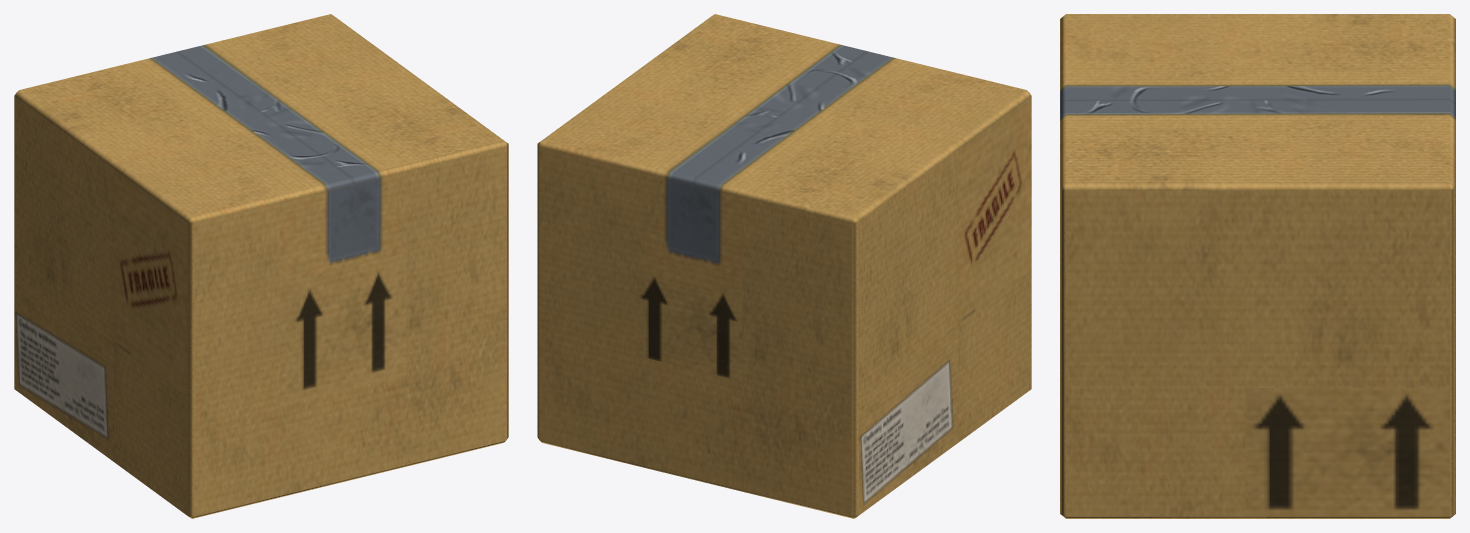
The model's file is cardboard_02.fbx.
The picture shows the model from 3 angles, left to right: view 1: azimuth 30°, elevation 25°; view 2: azimuth 150°, elevation 25°; view 3: azimuth 270°, elevation 25°; orthographic projection. The views are drawn at different scales.
Parts seen in each view (by area): view 1: cardboard_02; view 2: cardboard_02; view 3: cardboard_02.
Part boxes in pixels (x1=…): cardboard_02: x1=14, y1=14, x2=508, y2=518; cardboard_02: x1=537, y1=14, x2=1031, y2=518; cardboard_02: x1=1060, y1=14, x2=1455, y2=518.
Bounding box in the file's own units: 61.8 × 55.54 × 59.3.
